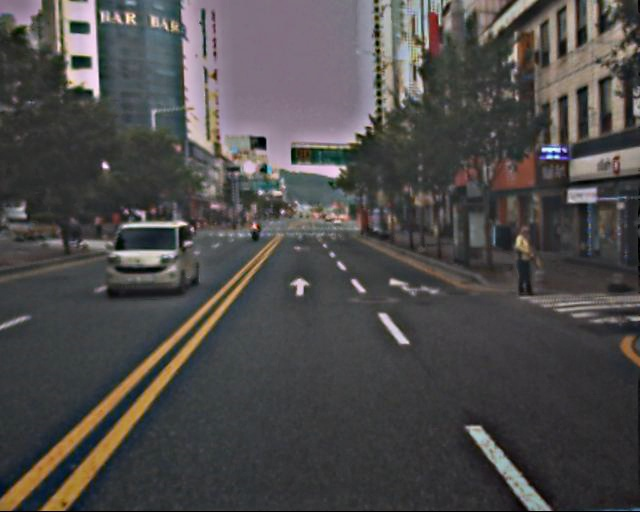person: (507, 223, 543, 300)
